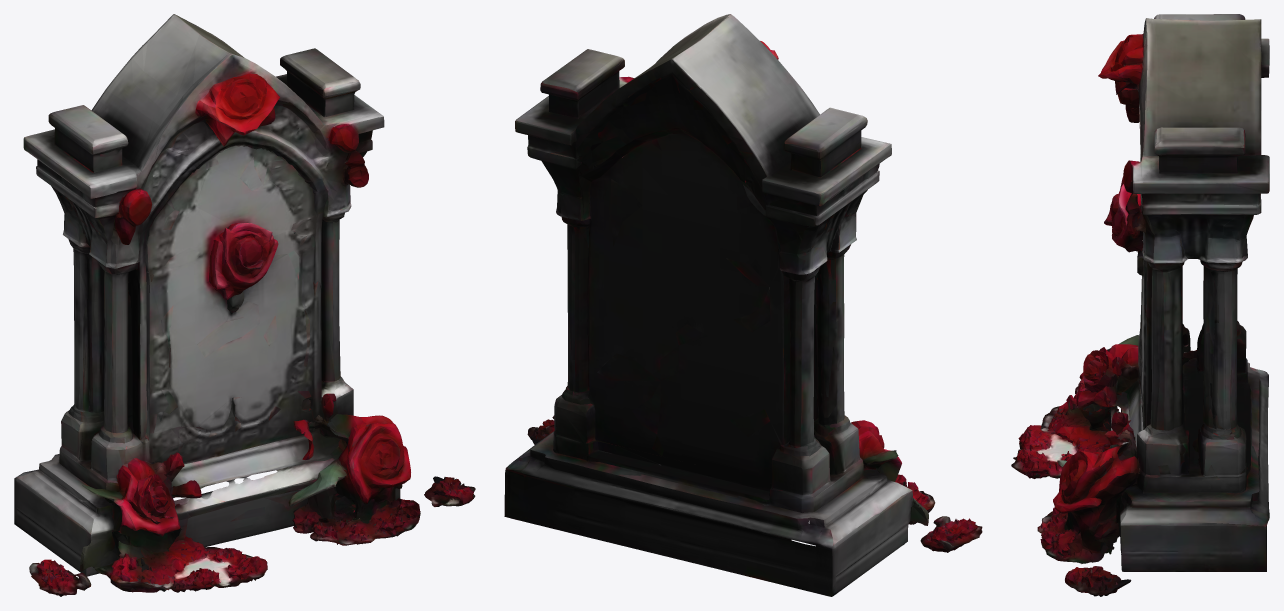
The model's file is prop_cathedral_grave.fbx.
3 renders of one model, left to right at view 1: azimuth 30°, elevation 25°; view 2: azimuth 150°, elevation 25°; view 3: azimuth 270°, elevation 25°, orthographic. The views are drawn at different scales.
Parts seen in each view (by area): view 1: geometry_0; view 2: geometry_0; view 3: geometry_0.
Boxes of the visible parts, <box> form: geometry_0: <box>14,14,475,596</box>; geometry_0: <box>504,14,982,596</box>; geometry_0: <box>1011,14,1269,596</box>.
Bounding box in the file's own units: 0.9533 × 1 × 0.4914.
